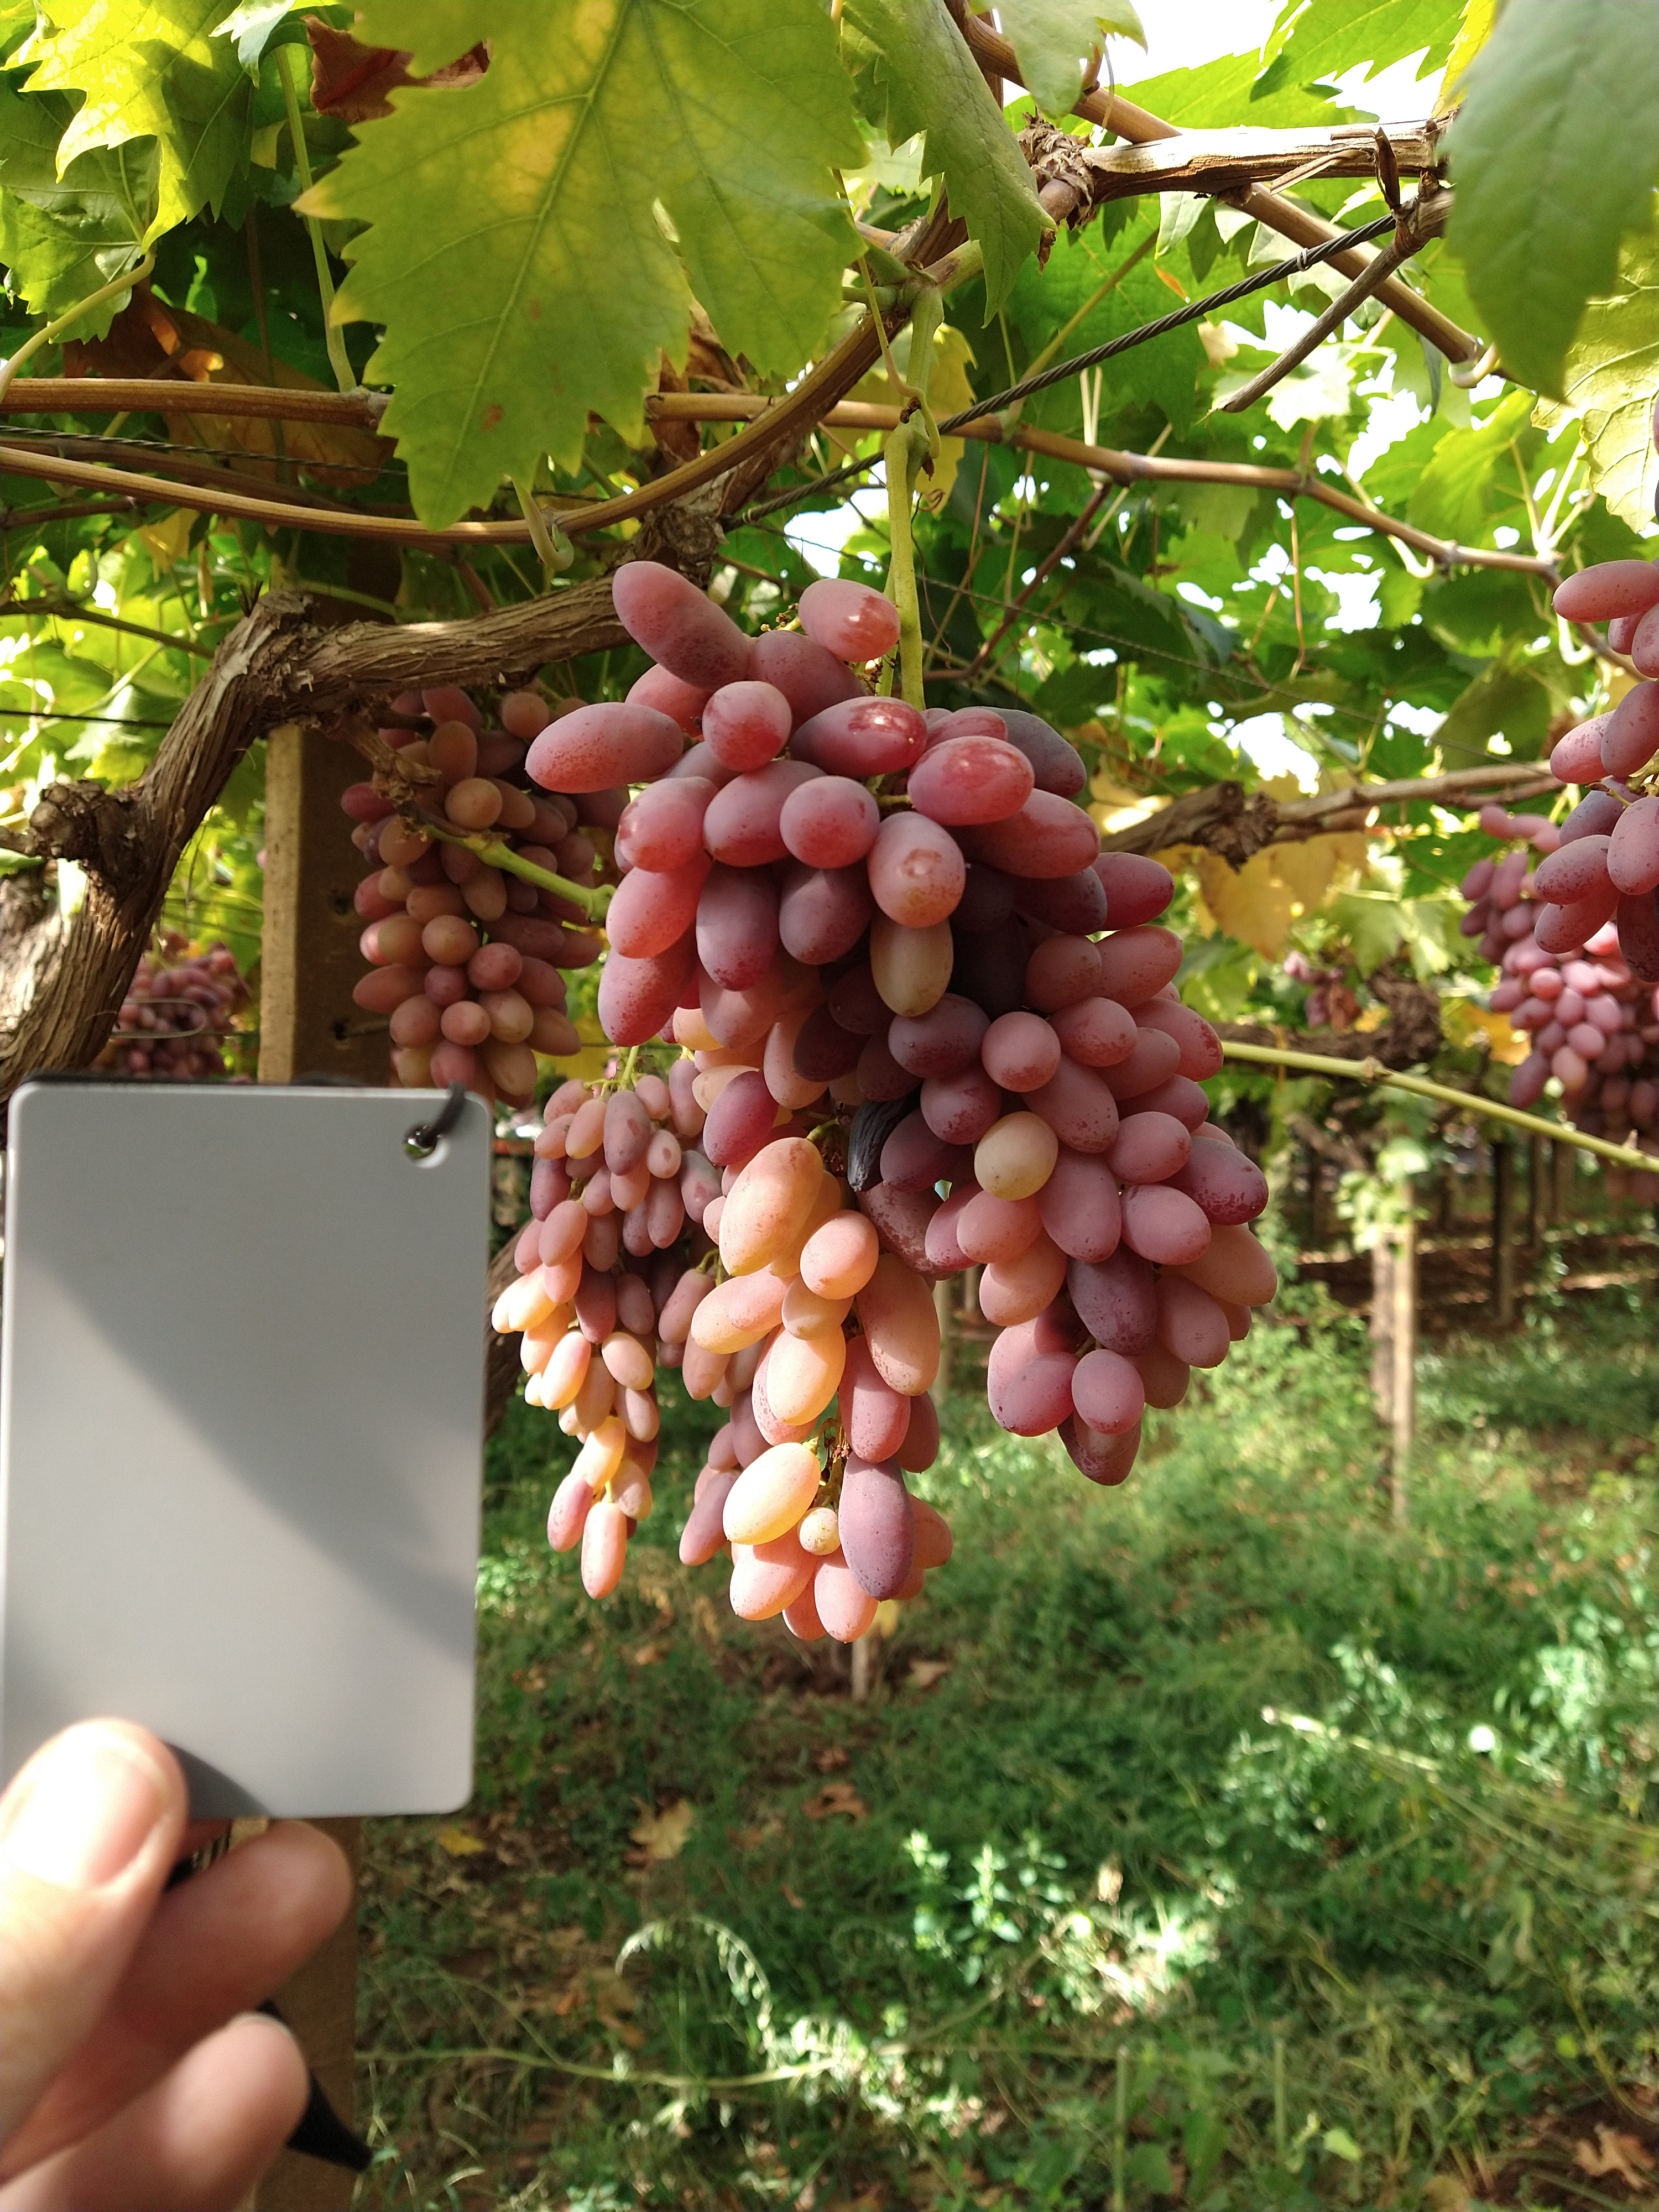acino: (612, 556, 755, 688), (519, 697, 687, 792), (718, 1136, 828, 1277), (985, 1308, 1086, 1435), (854, 1252, 941, 1395), (835, 1454, 918, 1602), (904, 737, 1035, 829), (969, 787, 1100, 880), (720, 1439, 826, 1552), (694, 857, 782, 991), (592, 935, 697, 1047), (870, 810, 969, 927), (791, 697, 929, 775), (617, 775, 721, 873), (1068, 1251, 1162, 1355), (1039, 1151, 1124, 1264), (701, 672, 796, 772), (782, 773, 882, 869), (796, 571, 899, 664), (885, 993, 992, 1082), (690, 1263, 789, 1355), (866, 918, 955, 1015), (1026, 1064, 1124, 1151), (782, 864, 864, 967), (701, 1069, 786, 1167), (760, 1338, 849, 1428), (972, 1108, 1060, 1200), (1185, 1129, 1267, 1226), (606, 867, 694, 958), (800, 1205, 884, 1296), (1121, 1183, 1211, 1266), (728, 1536, 821, 1618), (1188, 1223, 1277, 1306), (978, 1008, 1061, 1096), (1066, 1346, 1147, 1435), (974, 1244, 1063, 1324), (1155, 1278, 1230, 1369), (1107, 1109, 1195, 1184), (918, 1069, 1000, 1150), (1100, 925, 1185, 1001), (850, 1355, 910, 1465), (1089, 852, 1178, 925), (1019, 935, 1103, 1012), (955, 1197, 1046, 1266), (1060, 993, 1138, 1068)
